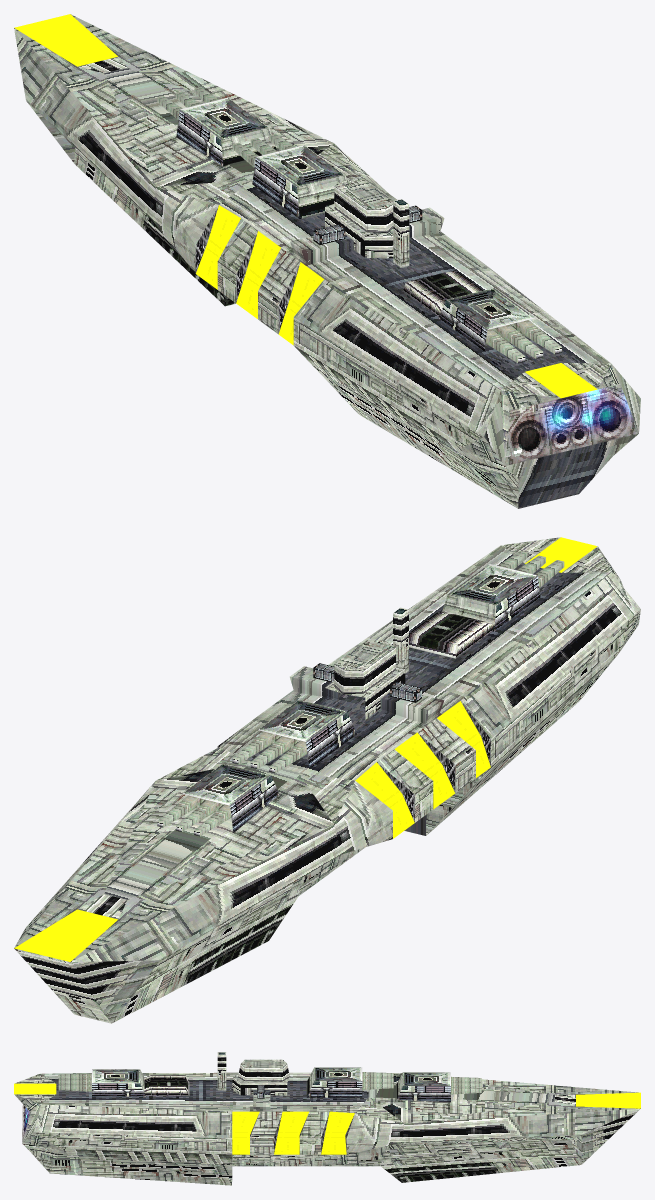
File: tdreadnought_cmp.gltf
3 views of the same model, one above another, from view 1: azimuth 30°, elevation 25°; view 2: azimuth 150°, elevation 25°; view 3: azimuth 270°, elevation 25° (orthographic). The views are drawn at different scales.
Visible parts, largest first — view 1: Root, turret2, turret1, turret3, barrel3, barrel2, barrel1; view 2: Root, turret3, turret2, turret1, barrel2, barrel1, barrel3; view 3: Root, turret2, turret1, turret3, barrel3, barrel2, barrel1.
Part boxes in pixels (x1,y1,x2,y2): Root: [14, 14, 640, 508]; turret2: [252, 145, 346, 218]; turret1: [176, 97, 276, 166]; turret3: [438, 288, 535, 351]; barrel3: [485, 320, 561, 363]; barrel2: [232, 133, 295, 167]; barrel1: [157, 87, 219, 119]; Root: [14, 537, 640, 1023]; turret3: [442, 563, 540, 631]; turret2: [258, 700, 356, 768]; turret1: [181, 763, 279, 832]; barrel2: [232, 731, 307, 773]; barrel1: [157, 795, 231, 836]; barrel3: [498, 551, 564, 588]; Root: [14, 1052, 640, 1185]; turret2: [306, 1067, 362, 1097]; turret1: [396, 1072, 450, 1102]; turret3: [92, 1069, 146, 1096]; barrel3: [58, 1073, 91, 1091]; barrel2: [362, 1072, 393, 1089]; barrel1: [451, 1077, 481, 1094].
Size of the model in its own units: 8.49 by 8.68 by 40.02.
Materials: 11 (11 with a texture image).
